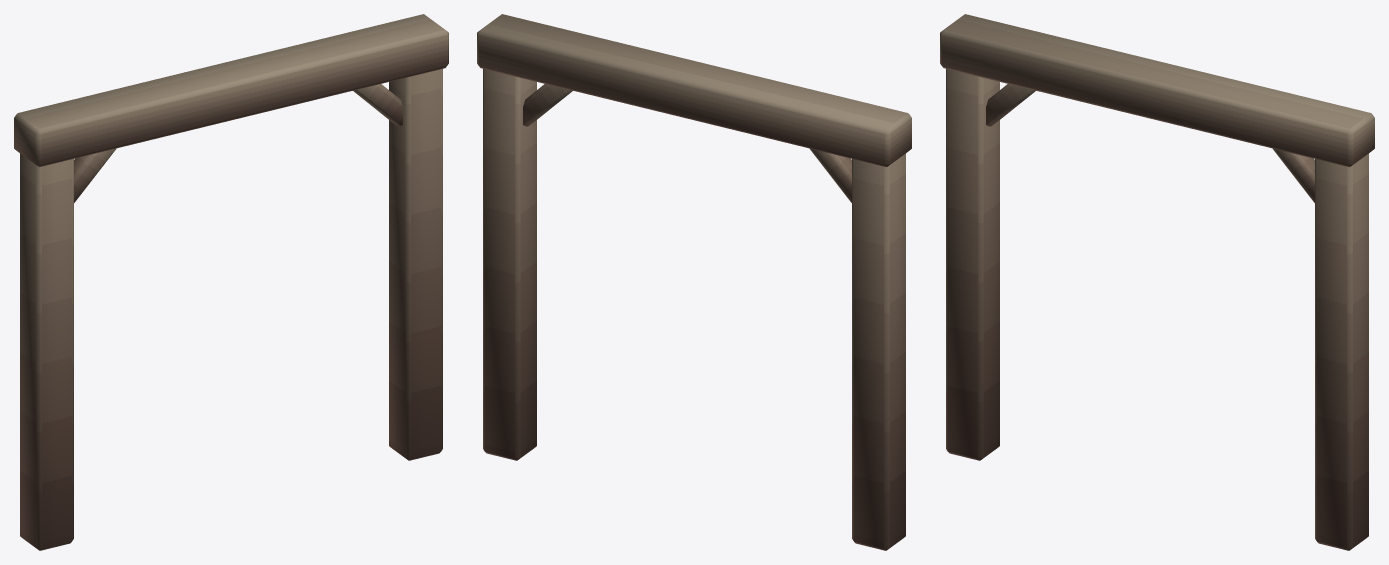
File: DL_Obj_Level5_MineArch4.fbx
The picture shows the model from 3 angles, left to right: view 1: azimuth 30°, elevation 25°; view 2: azimuth 150°, elevation 25°; view 3: azimuth 330°, elevation 25°; orthographic projection.
Parts seen in each view (by area): view 1: Level5_MineArch4; view 2: Level5_MineArch4; view 3: Level5_MineArch4.
Part boxes in pixels (bbox=[...]): Level5_MineArch4: bbox=[14, 14, 448, 550]; Level5_MineArch4: bbox=[477, 14, 911, 550]; Level5_MineArch4: bbox=[940, 14, 1374, 550].
Size of the model in its own units: 560 by 550 by 60.
